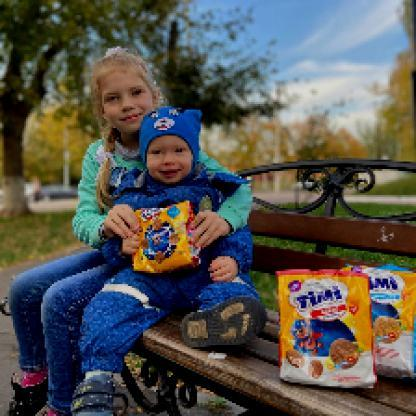child: (72, 109, 247, 416)
